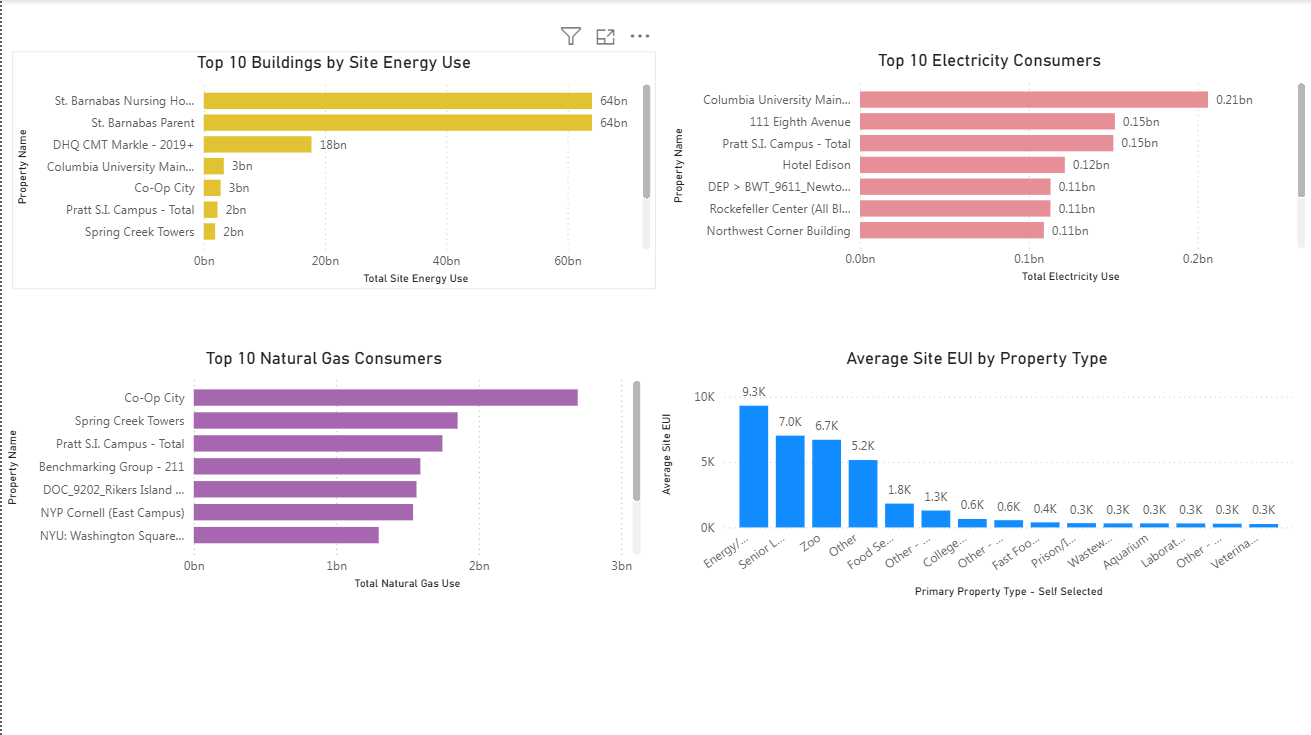

Layout of this report page (visuals, bound fields, positions):
{"tool":"powerbi","page":{"name":"Energy Consumption Analysis","canvas":[1280,720],"ordinal":1},"visuals":[{"type":"clusteredBarChart","title":"Top 10 Buildings by Site Energy Use","fields":{"Category":["final_cleaned_energy_data.Property Name"],"Y":["final_cleaned_energy_data.Total Site Energy Use"]},"box":[10,50,630,232.9],"z":0},{"type":"clusteredBarChart","title":"Top 10 Electricity Consumers","fields":{"Category":["final_cleaned_energy_data.Property Name"],"Y":["final_cleaned_energy_data.Total Electricity Use"]},"box":[651.4,48.6,628.6,232.9],"z":1000},{"type":"clusteredBarChart","title":"Top 10 Natural Gas Consumers","fields":{"Category":["final_cleaned_energy_data.Property Name"],"Y":["final_cleaned_energy_data.Total Natural Gas Use"]},"box":[0,340,630,241.4],"z":2000},{"type":"clusteredColumnChart","title":"Average Site EUI by Property Type","fields":{"Category":["final_cleaned_energy_data.Primary Property Type - Self Selected"],"Y":["final_cleaned_energy_data.Average Site EUI"]},"box":[640,340,628.6,250],"z":3000}]}

Visuals, with their boxes in screenshot pixels (x1, y1, x2, y2), scaled from the page's 1280x720 canvas onto the 1311x735 screenshot:
"Top 10 Buildings by Site Energy Use" clusteredBarChart: bbox=(10, 51, 656, 289)
"Top 10 Electricity Consumers" clusteredBarChart: bbox=(667, 50, 1310, 287)
"Top 10 Natural Gas Consumers" clusteredBarChart: bbox=(0, 347, 645, 594)
"Average Site EUI by Property Type" clusteredColumnChart: bbox=(656, 347, 1299, 602)
